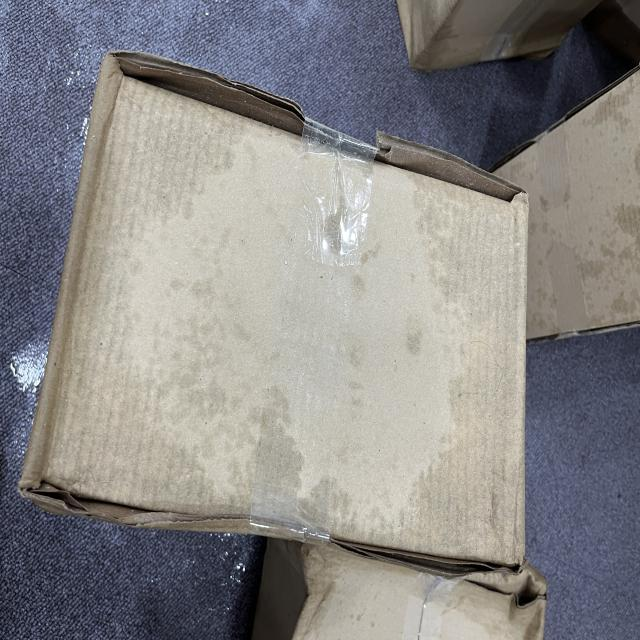wet: (67, 68, 277, 509), (413, 176, 531, 574)
